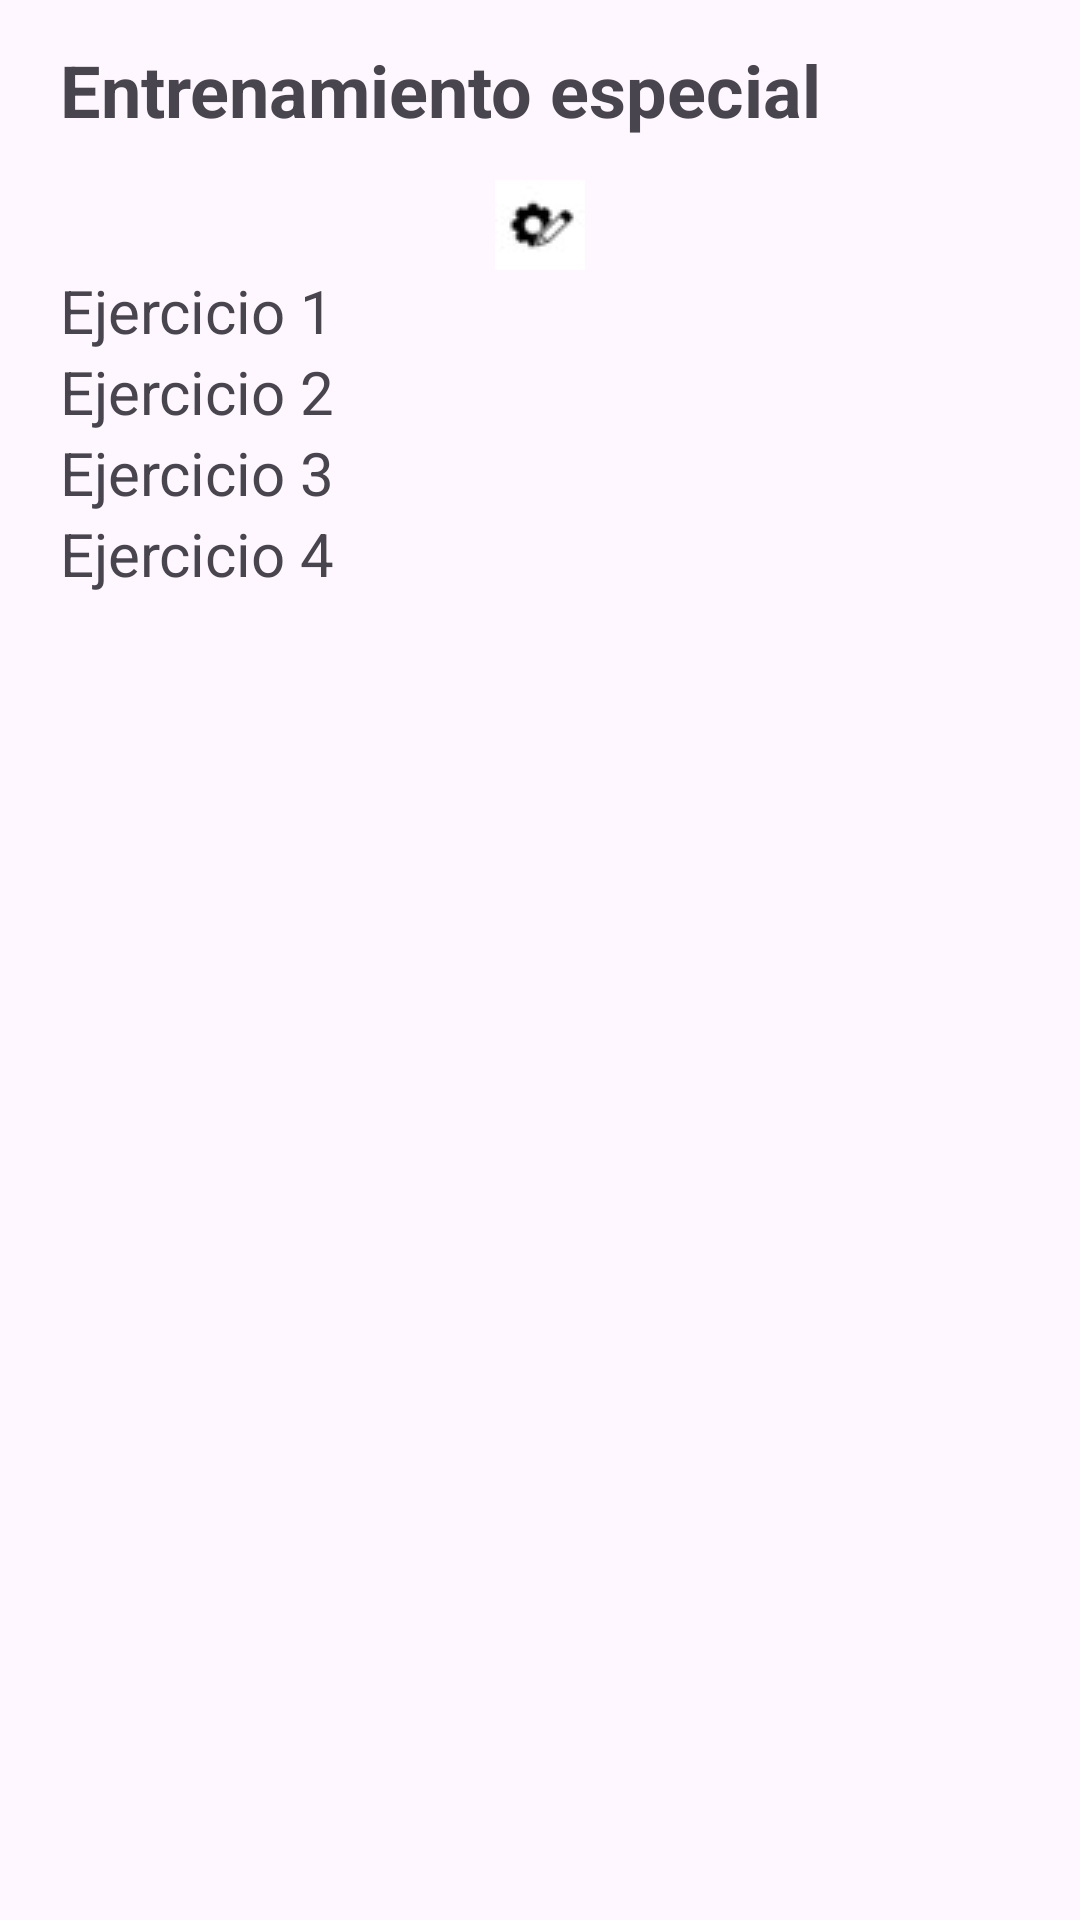

Screen size 1080×1920. Icon name, then its box in pixels as bbox(x1, y1, x2, y2):
custom: bbox(509, 201, 574, 249)
